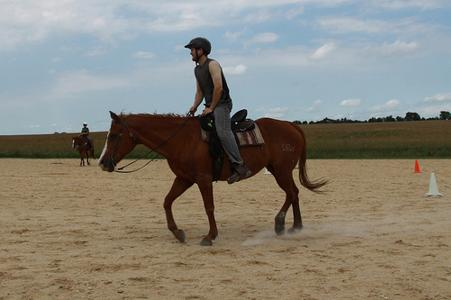person: (184, 36, 252, 184)
